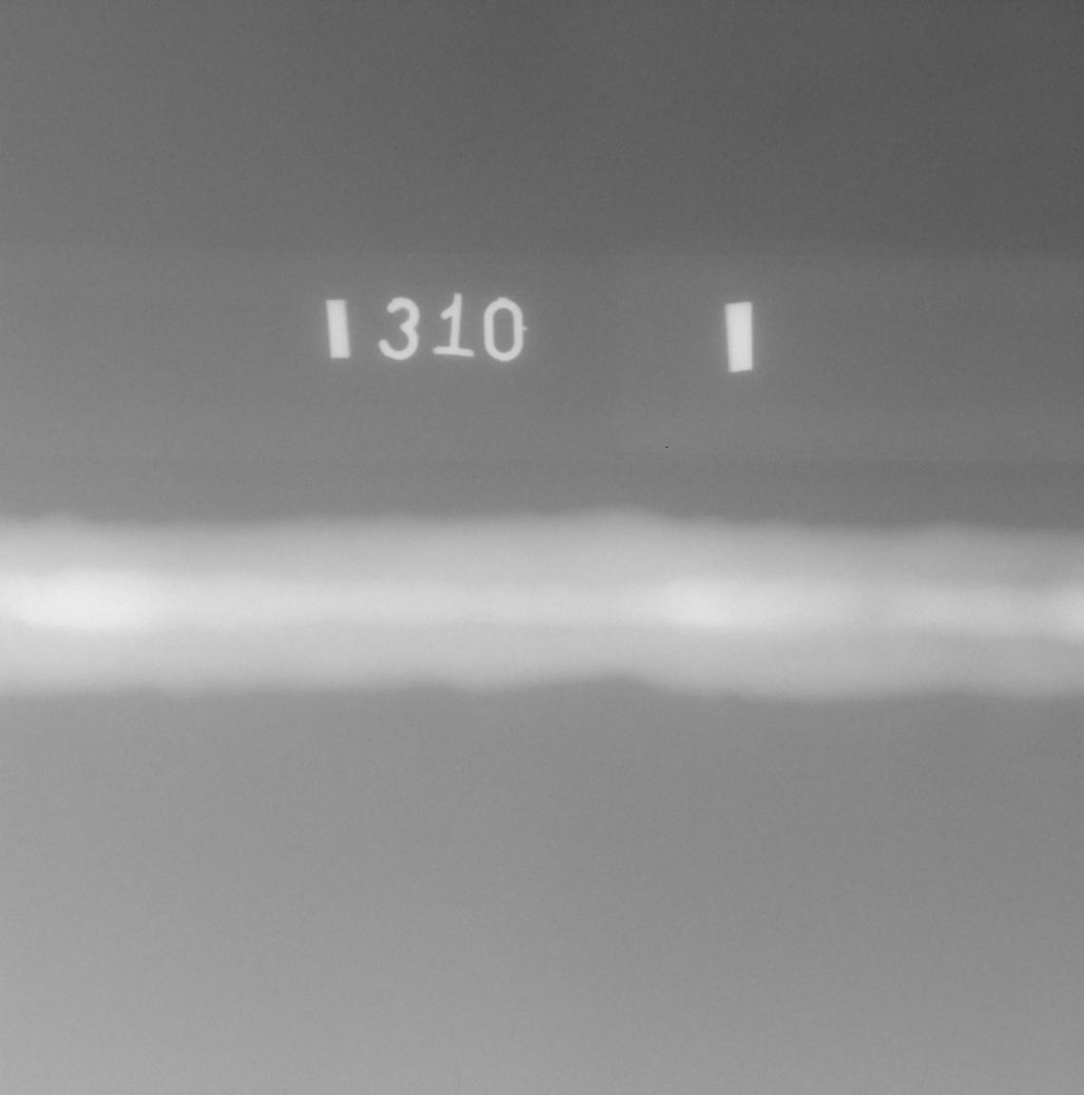Pore/Porosity: (17, 595, 20, 599)
